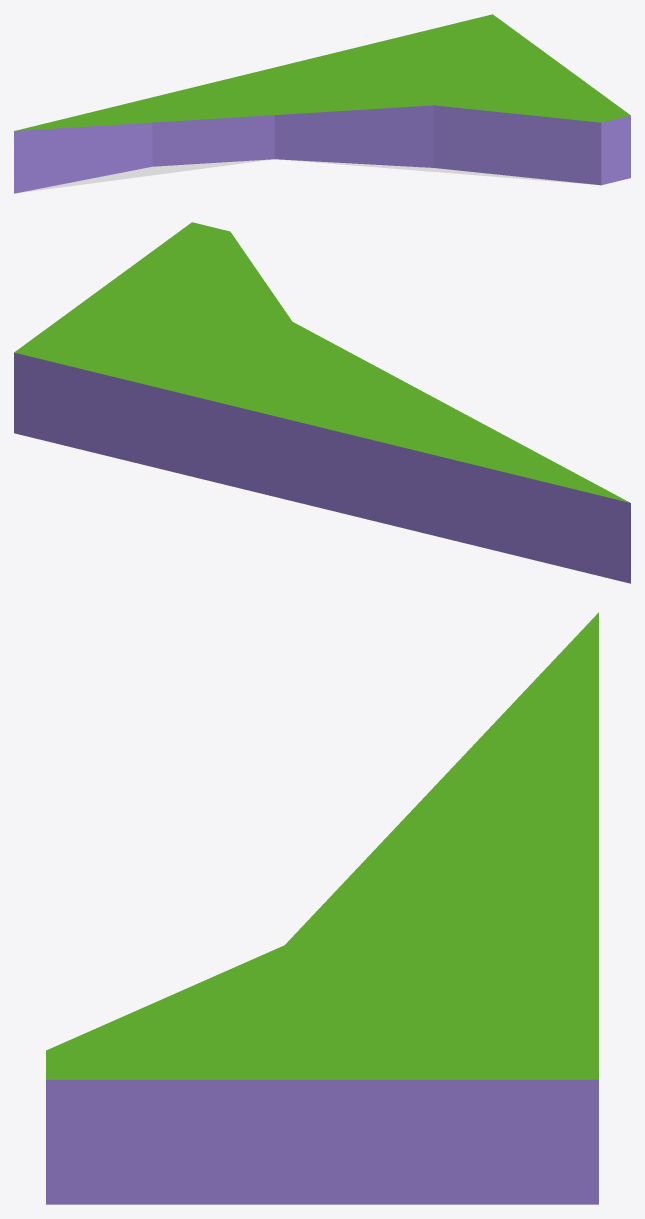
The model's file is Tiered_Grass_45_Degrees_Curve_Inner_Inside_1x2.glb.
3 renders of one model, top to bottom at view 1: azimuth 30°, elevation 25°; view 2: azimuth 150°, elevation 25°; view 3: azimuth 270°, elevation 25°, orthographic. The views are drawn at different scales.
Visible parts, largest first — view 1: Tiered_Grass_45_Degrees_Curve_Inner_Inside_1x2; view 2: Tiered_Grass_45_Degrees_Curve_Inner_Inside_1x2; view 3: Tiered_Grass_45_Degrees_Curve_Inner_Inside_1x2.
Boxes of the visible parts, bbox=[...] form: Tiered_Grass_45_Degrees_Curve_Inner_Inside_1x2: bbox=[14, 14, 630, 193]; Tiered_Grass_45_Degrees_Curve_Inner_Inside_1x2: bbox=[14, 222, 630, 583]; Tiered_Grass_45_Degrees_Curve_Inner_Inside_1x2: bbox=[46, 612, 598, 1204].
Bounding box in the file's own units: 200 × 25 × 100.
